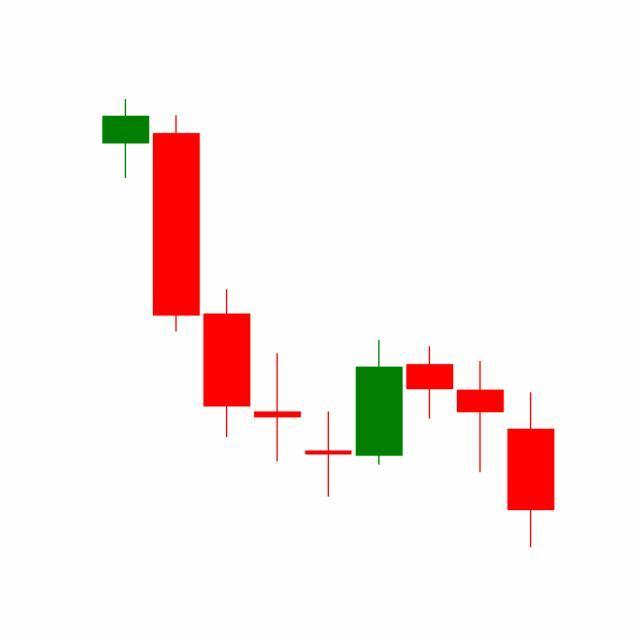Hikkake Pattern: (252, 338, 506, 499)
